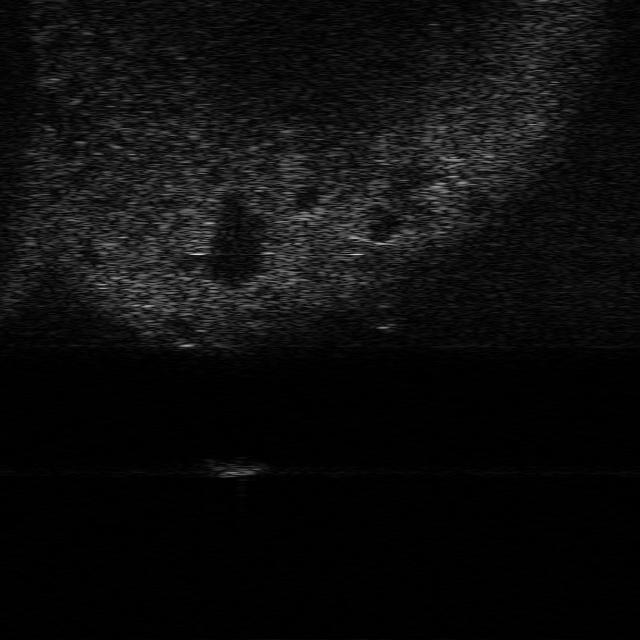ball: (360, 304, 402, 332)
cube: (202, 456, 268, 480)
